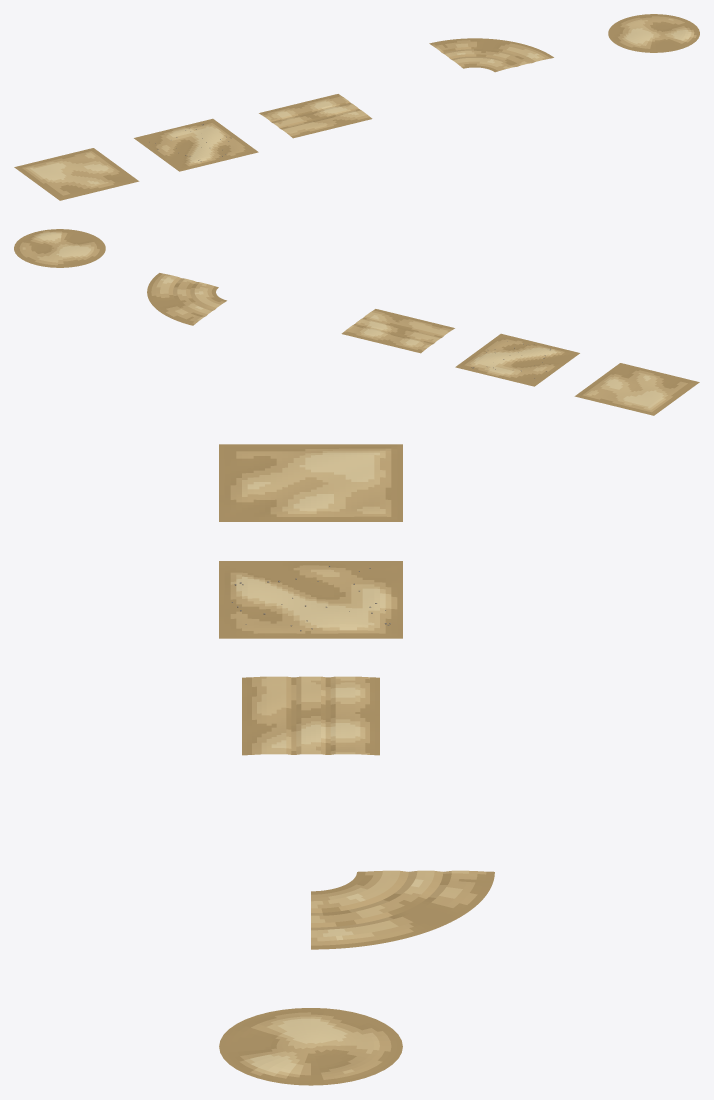
The model's file is suelo-arena.glb.
3 renders of one model, top to bottom at view 1: azimuth 30°, elevation 25°; view 2: azimuth 150°, elevation 25°; view 3: azimuth 270°, elevation 25°, orthographic. The views are drawn at different scales.
Parts seen in each view (by area): view 1: arena_plana_b_ArenaHuella, arena_parche_redondo_ArenaHuella, arena_plana_a_ArenaHuella, arena_camino_curva_ArenaOscura, arena_camino_recta_ArenaOscura, arena_plana_a_ArenaOscura, arena_plana_b_ArenaOscura, arena_camino_curva_ArenaHuella, arena_plana_a_ArenaMedia, arena_camino_recta_ArenaMedia, arena_camino_recta_ArenaHuella, arena_parche_redondo_ArenaOscura (+7 smaller); view 2: arena_plana_b_ArenaHuella, arena_parche_redondo_ArenaHuella, arena_plana_a_ArenaHuella, arena_camino_curva_ArenaOscura, arena_camino_recta_ArenaOscura, arena_plana_a_ArenaOscura, arena_plana_b_ArenaOscura, arena_plana_a_ArenaMedia, arena_camino_curva_ArenaHuella, arena_camino_recta_ArenaHuella, arena_camino_recta_ArenaMedia, arena_parche_redondo_ArenaOscura (+7 smaller); view 3: arena_plana_b_ArenaHuella, arena_parche_redondo_ArenaHuella, arena_plana_a_ArenaHuella, arena_camino_curva_ArenaOscura, arena_plana_a_ArenaOscura, arena_camino_recta_ArenaOscura, arena_plana_b_ArenaOscura, arena_camino_curva_ArenaHuella, arena_plana_a_ArenaMedia, arena_camino_recta_ArenaMedia, arena_plana_b_ArenaClara, arena_camino_recta_ArenaHuella (+7 smaller).
Boxes of the visible parts, bbox=[...] form: arena_plana_b_ArenaHuella: bbox=[134, 118, 258, 171]; arena_parche_redondo_ArenaHuella: bbox=[608, 14, 699, 52]; arena_plana_a_ArenaHuella: bbox=[14, 148, 139, 200]; arena_camino_curva_ArenaOscura: bbox=[431, 40, 550, 71]; arena_camino_recta_ArenaOscura: bbox=[261, 95, 369, 136]; arena_plana_a_ArenaOscura: bbox=[22, 151, 119, 195]; arena_plana_b_ArenaOscura: bbox=[156, 123, 245, 166]; arena_camino_curva_ArenaHuella: bbox=[429, 38, 553, 72]; arena_plana_a_ArenaMedia: bbox=[26, 152, 114, 186]; arena_camino_recta_ArenaMedia: bbox=[265, 97, 367, 133]; arena_camino_recta_ArenaHuella: bbox=[259, 94, 372, 138]; arena_parche_redondo_ArenaOscura: bbox=[618, 16, 696, 48]; arena_plana_b_ArenaHuella: bbox=[455, 333, 579, 386]; arena_parche_redondo_ArenaHuella: bbox=[14, 229, 105, 267]; arena_plana_a_ArenaHuella: bbox=[574, 363, 699, 415]; arena_camino_curva_ArenaOscura: bbox=[151, 273, 224, 323]; arena_camino_recta_ArenaOscura: bbox=[344, 310, 452, 351]; arena_plana_a_ArenaOscura: bbox=[582, 370, 687, 412]; arena_plana_b_ArenaOscura: bbox=[464, 339, 564, 377]; arena_plana_a_ArenaMedia: bbox=[586, 372, 667, 410]; arena_camino_curva_ArenaHuella: bbox=[147, 273, 226, 325]; arena_camino_recta_ArenaHuella: bbox=[341, 309, 454, 353]; arena_camino_recta_ArenaMedia: bbox=[348, 312, 448, 348]; arena_parche_redondo_ArenaOscura: bbox=[19, 231, 99, 265]; arena_plana_b_ArenaHuella: bbox=[219, 561, 402, 638]; arena_parche_redondo_ArenaHuella: bbox=[219, 1008, 402, 1085]; arena_plana_a_ArenaHuella: bbox=[219, 444, 402, 521]; arena_camino_curva_ArenaOscura: bbox=[311, 871, 486, 945]; arena_plana_a_ArenaOscura: bbox=[230, 448, 391, 516]; arena_camino_recta_ArenaOscura: bbox=[252, 676, 369, 754]; arena_plana_b_ArenaOscura: bbox=[230, 565, 397, 633]; arena_camino_curva_ArenaHuella: bbox=[311, 871, 494, 949]; arena_plana_a_ArenaMedia: bbox=[242, 450, 385, 513]; arena_camino_recta_ArenaMedia: bbox=[257, 676, 365, 754]; arena_plana_b_ArenaClara: bbox=[236, 576, 385, 630]; arena_camino_recta_ArenaHuella: bbox=[242, 677, 379, 755].
Bounding box in the file's own units: 66 × 0.1597 × 12.
